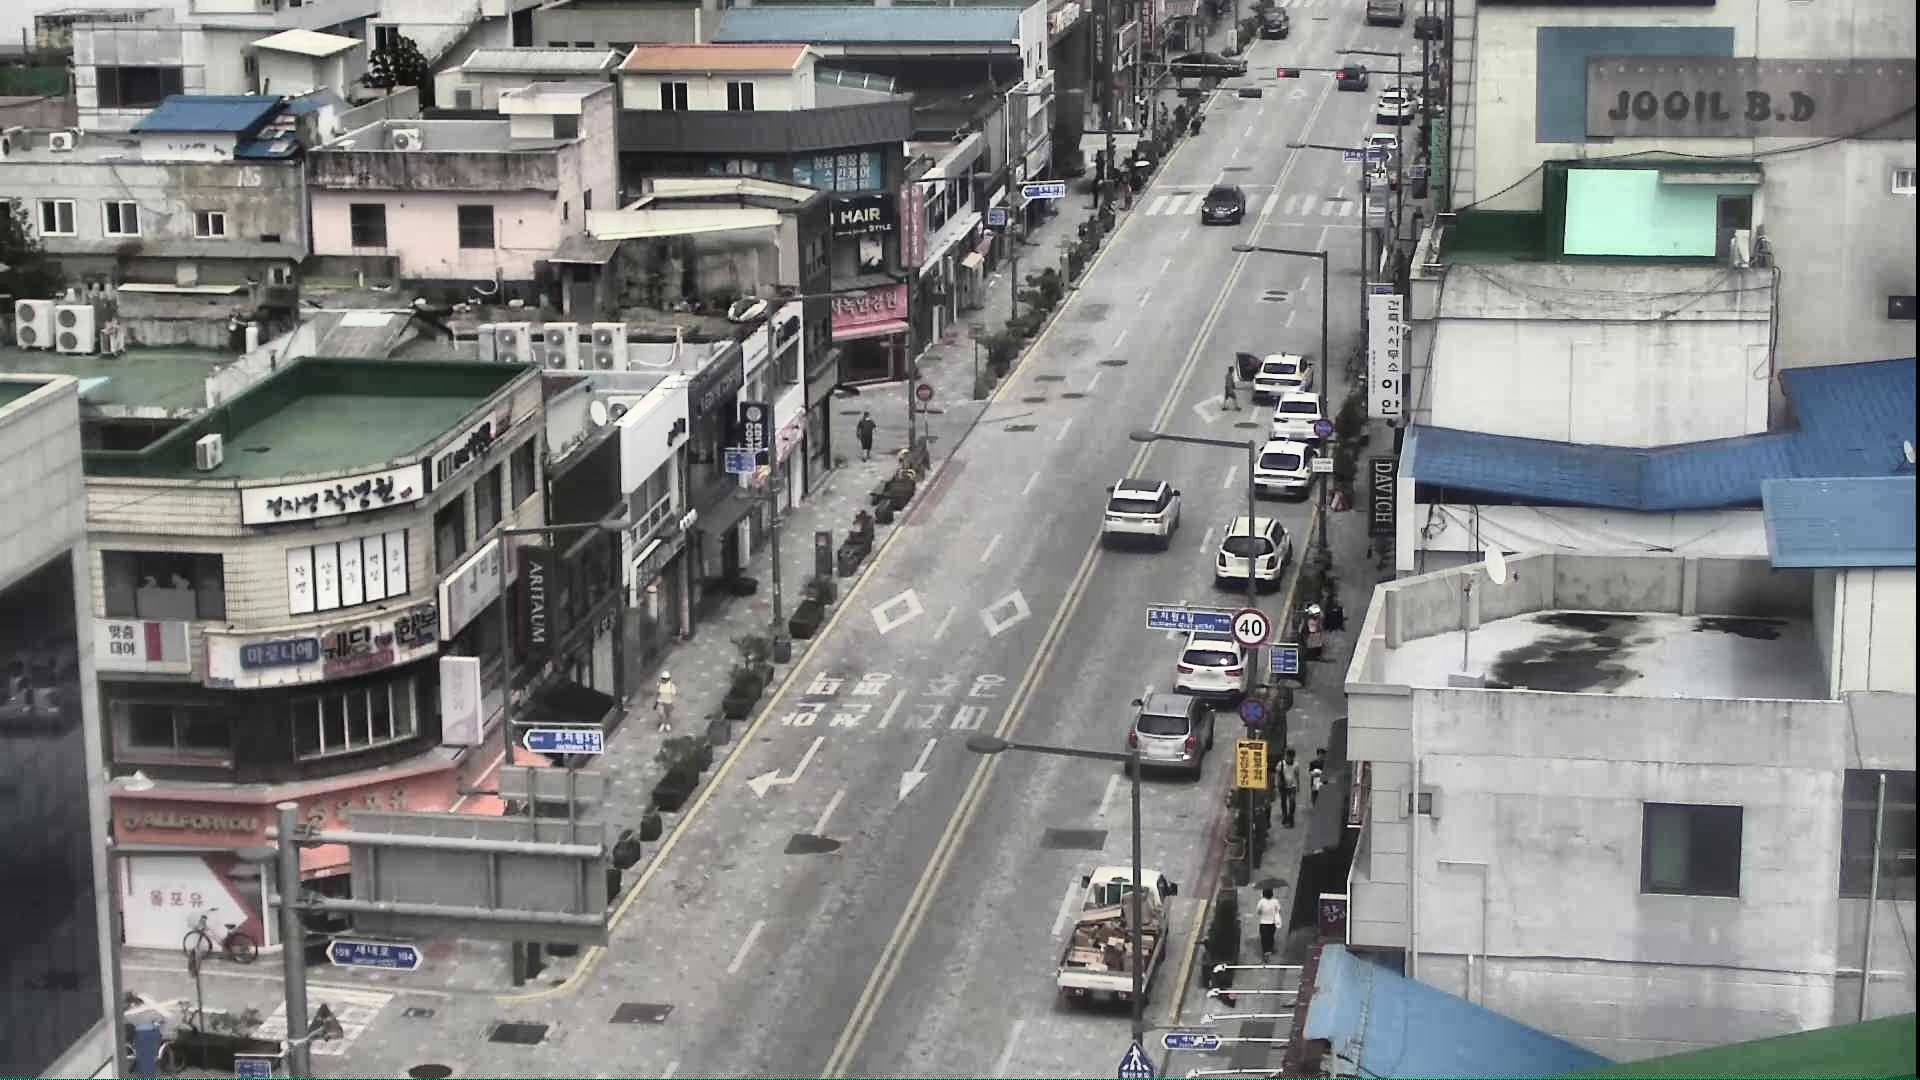jaywalk: (1221, 365, 1241, 415)
sidewalk: (1273, 744, 1305, 832), (1309, 744, 1331, 822), (653, 673, 676, 735), (856, 407, 876, 462)
um_sidewalk: (1250, 873, 1290, 963)
